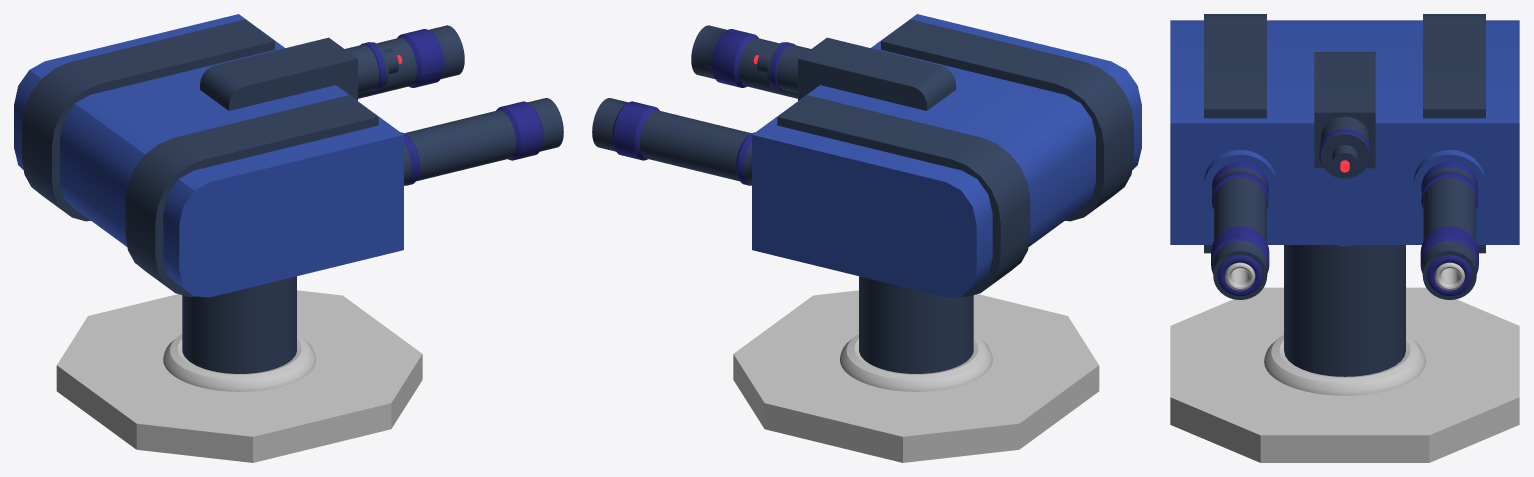
Rendered from turret.fbx.
3 views of the same model, side by side, from view 1: azimuth 30°, elevation 25°; view 2: azimuth 150°, elevation 25°; view 3: azimuth 270°, elevation 25° (orthographic). The views are drawn at different scales.
Visible parts, largest first — view 1: Upper, Lower; view 2: Upper, Lower; view 3: Upper, Lower.
Part boxes in pixels (x1,y1,x2,y2): Upper: (14,14,563,297); Lower: (56,276,422,462); Upper: (592,14,1141,297); Lower: (733,276,1099,462); Upper: (1170,14,1519,299); Lower: (1170,245,1519,462).
Size of the model in its own units: 292 by 209 by 200.
